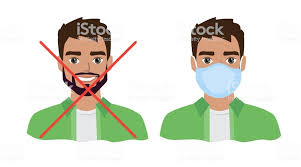masked: (185, 21, 253, 106)
